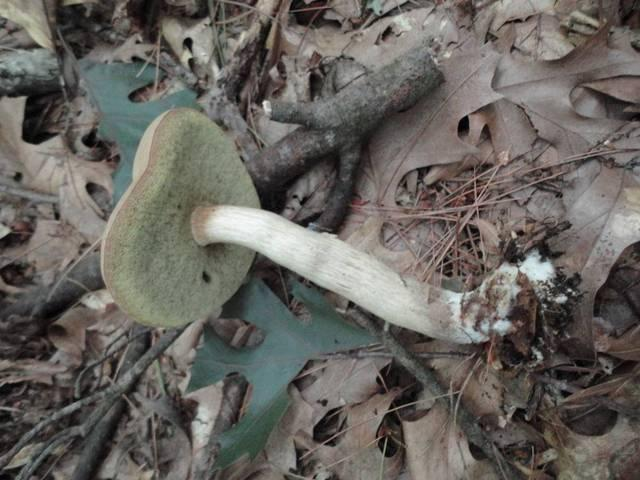edible_mushroom: (98, 105, 551, 347)
